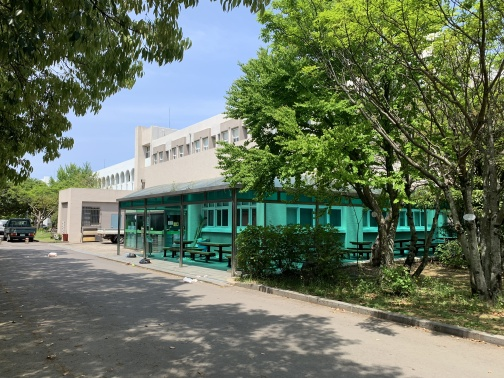Ara Hall: (115, 164, 472, 275)
